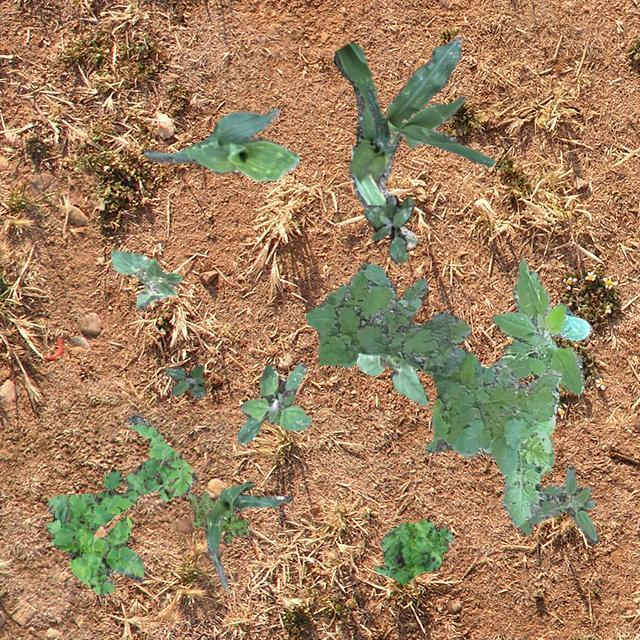crop: (332, 42, 418, 245), (364, 36, 494, 166), (492, 260, 590, 394), (144, 106, 298, 180), (204, 480, 290, 588), (108, 248, 180, 308), (356, 352, 428, 404)
weed: (304, 262, 560, 526), (44, 412, 194, 594), (516, 464, 598, 542), (236, 362, 310, 442), (372, 518, 452, 584), (362, 194, 412, 264), (188, 491, 248, 542), (164, 363, 204, 398)
